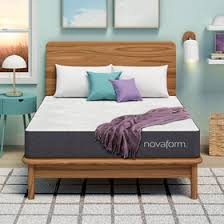bed-matress: (24, 95, 201, 159)
